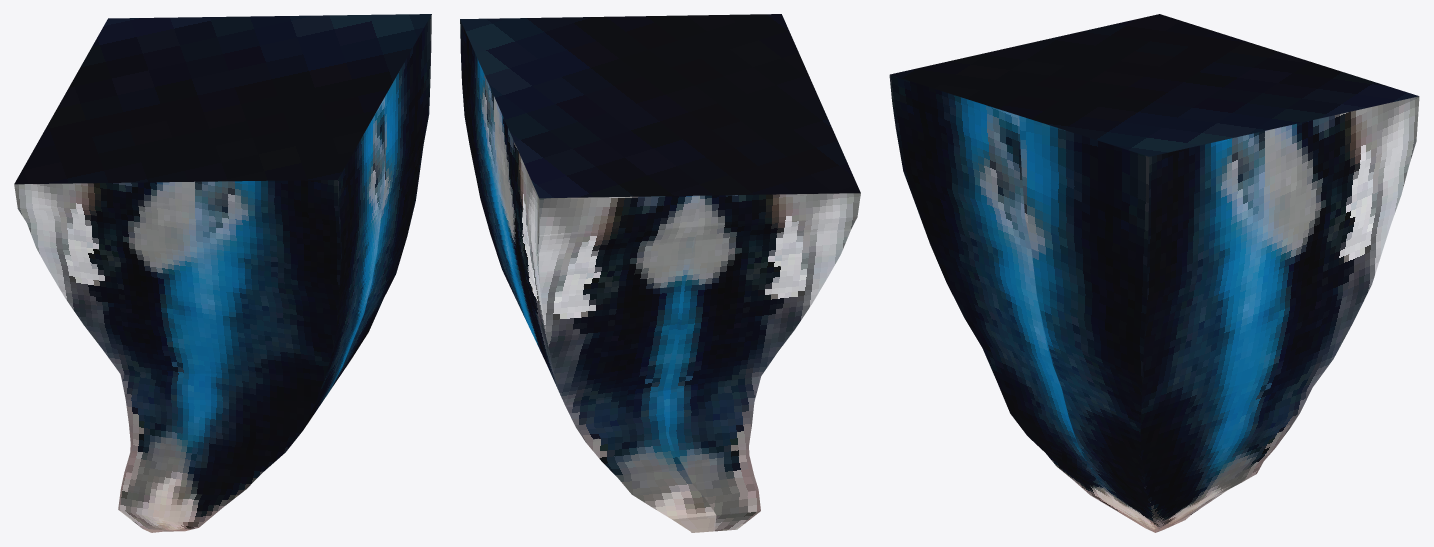
3 renders of one model, left to right at view 1: azimuth 30°, elevation 25°; view 2: azimuth 150°, elevation 25°; view 3: azimuth 270°, elevation 25°, orthographic. The views are drawn at different scales.
Parts seen in each view (by area): view 1: SPLICE_2; view 2: SPLICE_2; view 3: SPLICE_2.
Part boxes in pixels (left/top/right/bottom): SPLICE_2: left=14, top=14, right=431, bottom=532; SPLICE_2: left=460, top=14, right=860, bottom=532; SPLICE_2: left=889, top=14, right=1419, bottom=532.
Size of the model in its own units: 1.02 by 1.07 by 1.02.
Materials: 1 (1 with a texture image).
